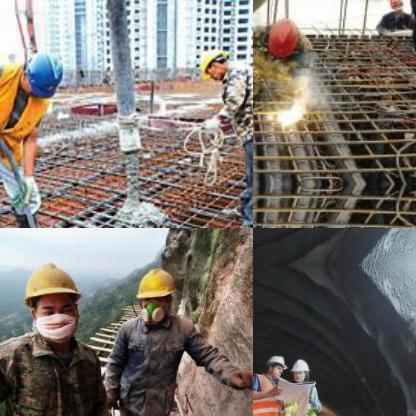Helmet: (14, 250, 84, 342), (130, 260, 180, 320), (22, 45, 58, 105), (262, 13, 302, 59), (196, 46, 230, 78), (287, 355, 309, 382), (265, 352, 285, 376), (385, 0, 406, 14)
